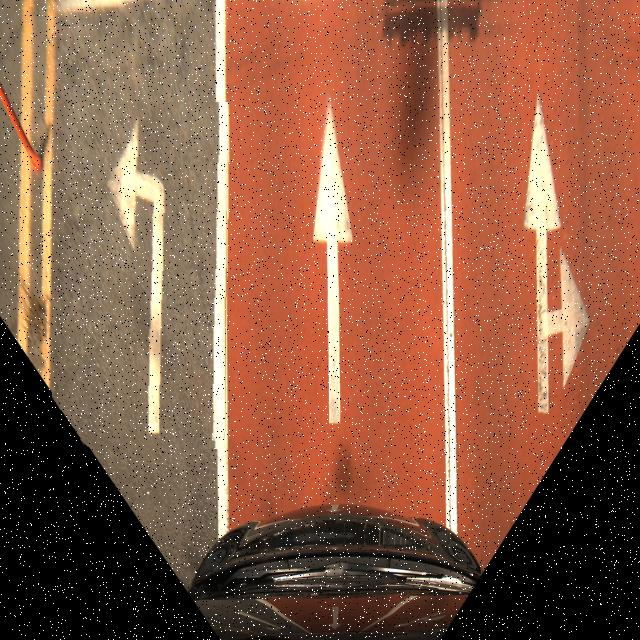left: (52, 102, 228, 448)
